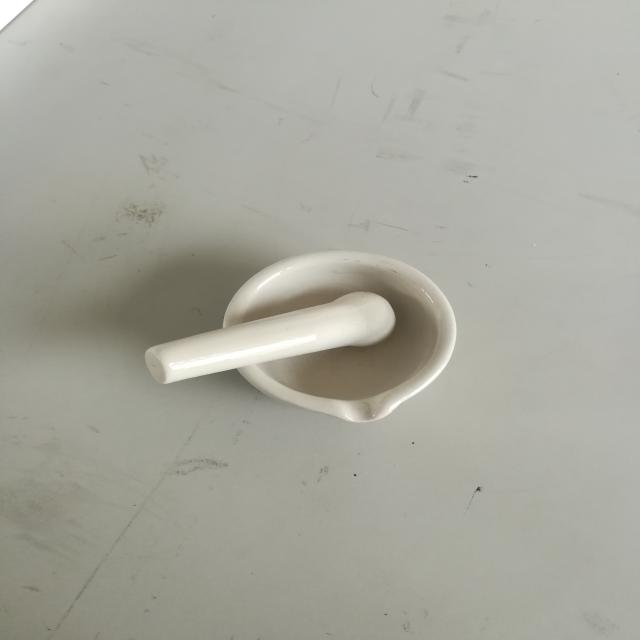Porcelain_Mortar Pestle: (117, 225, 490, 475)
